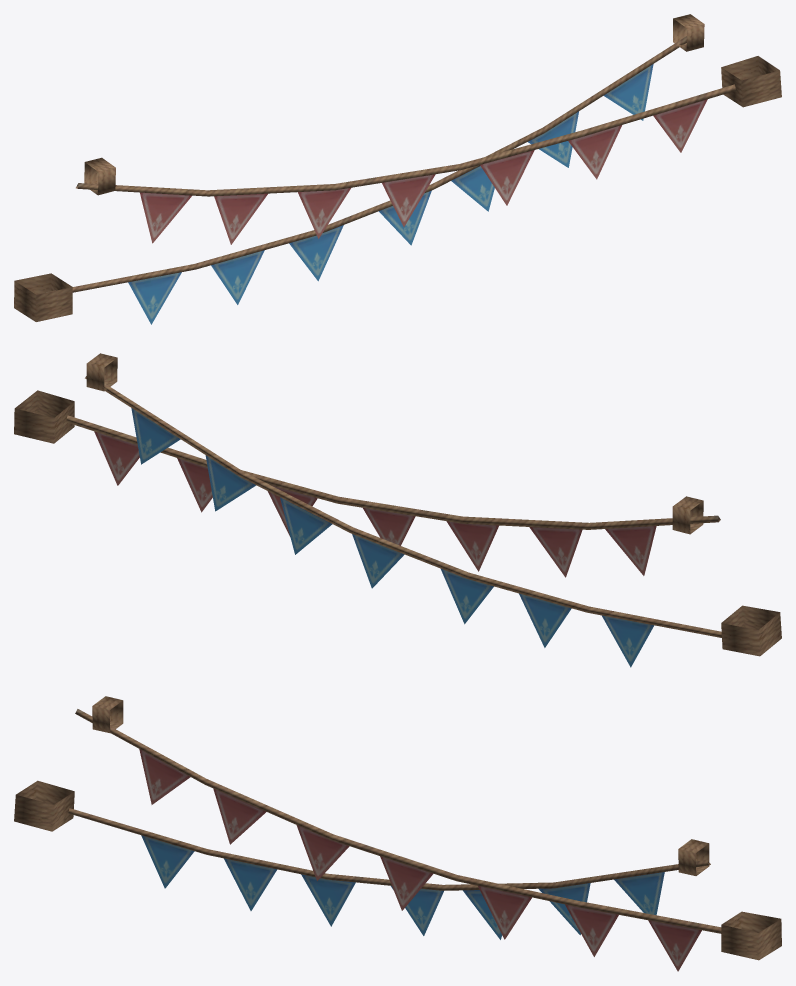
File: Homeworld_Ani_Exterior_Md_Build_TracellerBooth_04_03_Vo.fbx
3 views of the same model, one above another, from view 1: azimuth 30°, elevation 25°; view 2: azimuth 150°, elevation 25°; view 3: azimuth 330°, elevation 25° (orthographic).
Parts seen in each view (by area): view 1: Property_Ani_Prop_MarkertDeco_05_03_Vo; view 2: Property_Ani_Prop_MarkertDeco_05_03_Vo; view 3: Property_Ani_Prop_MarkertDeco_05_03_Vo.
Boxes of the visible parts, bbox=[...] form: Property_Ani_Prop_MarkertDeco_05_03_Vo: bbox=[14, 14, 781, 324]; Property_Ani_Prop_MarkertDeco_05_03_Vo: bbox=[14, 353, 781, 667]; Property_Ani_Prop_MarkertDeco_05_03_Vo: bbox=[14, 696, 781, 971].
Bounding box in the file's own units: 3.46 × 0.783 × 0.1949.
